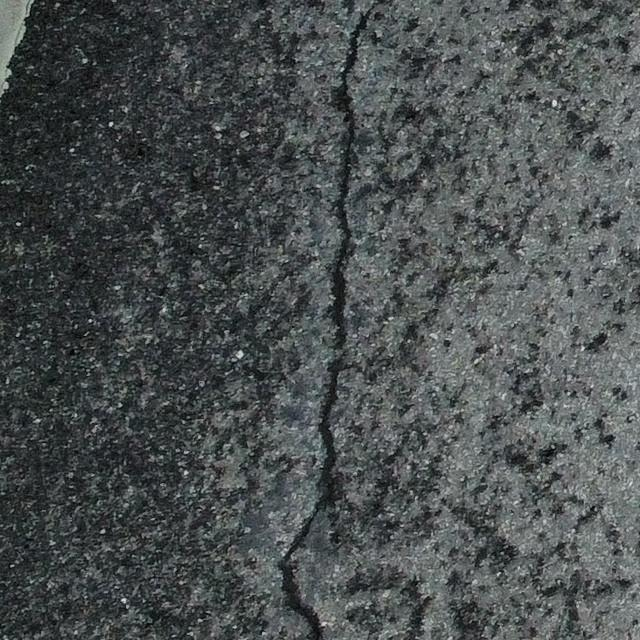LongitudinalCrack: (276, 4, 375, 640)
